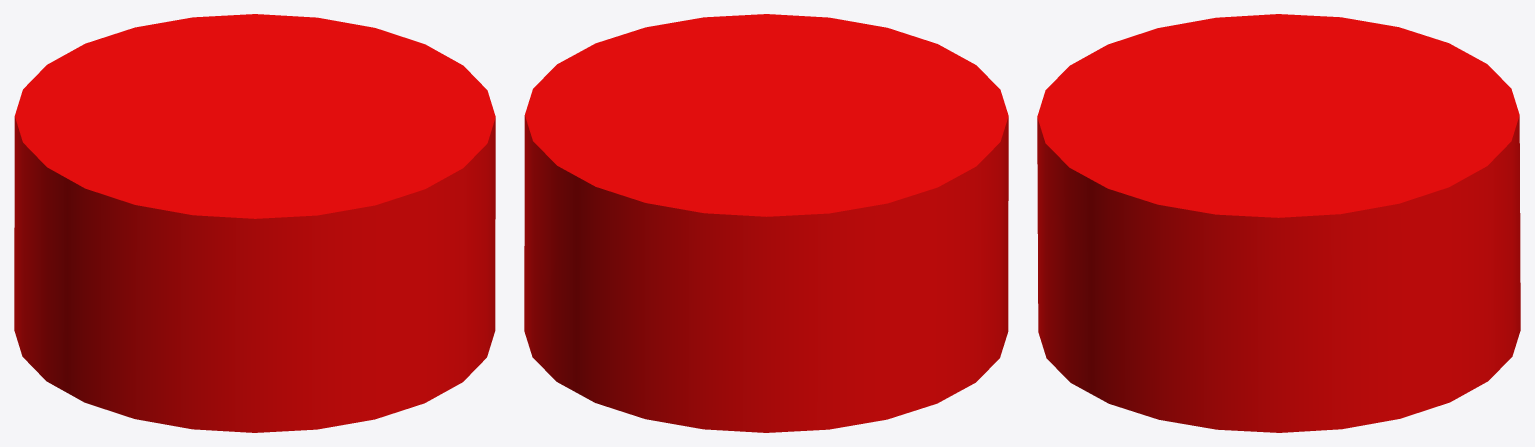
Rendered from SM_RedButton.FBX.
3 views of the same model, side by side, from view 1: azimuth 30°, elevation 25°; view 2: azimuth 150°, elevation 25°; view 3: azimuth 270°, elevation 25° (orthographic).
Visible parts, largest first — view 1: SM_RedButton; view 2: SM_RedButton; view 3: SM_RedButton.
Part boxes in pixels (box(x1,y1,x2,y2)): SM_RedButton: box(14, 14, 495, 432); SM_RedButton: box(524, 14, 1008, 432); SM_RedButton: box(1037, 14, 1520, 432).
Size of the model in its own units: 10 by 4.96 by 10.02.
